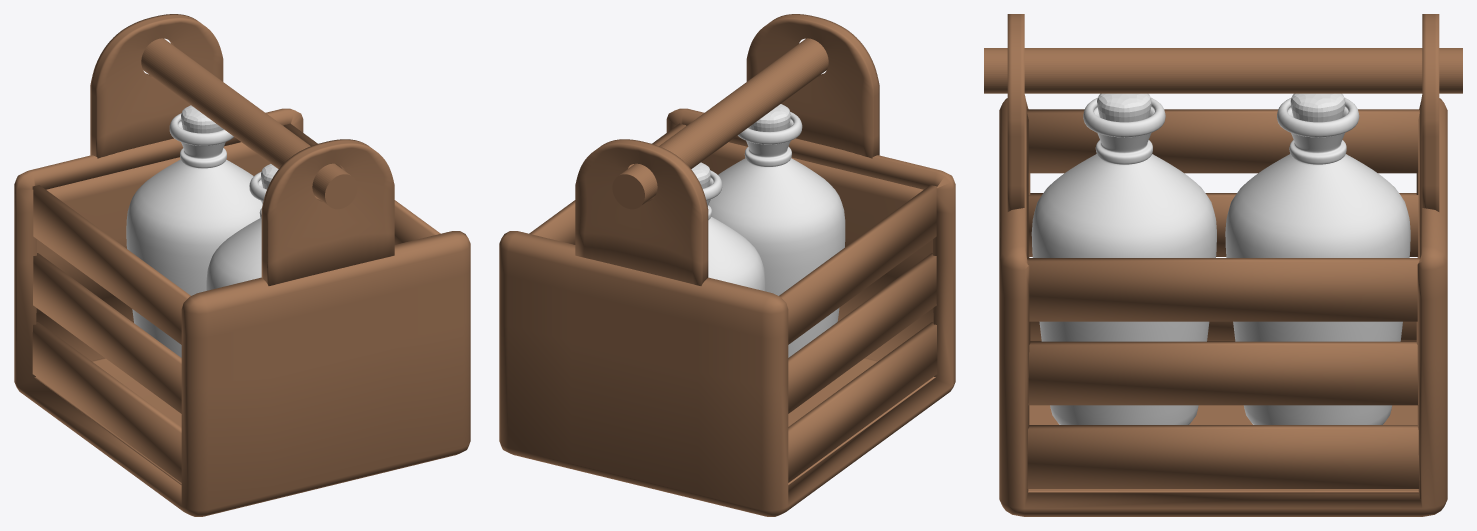
Rendered from CajaBotellas.fbx.
The picture shows the model from 3 angles, left to right: view 1: azimuth 30°, elevation 25°; view 2: azimuth 150°, elevation 25°; view 3: azimuth 270°, elevation 25°; orthographic projection. The views are drawn at different scales.
Visible parts, largest first — view 1: Cube.001, Cube.002, Cube.003, GLASS.001, Cylinder, GLASS, CORK.001; view 2: Cube.001, Cube.002, Cube.003, GLASS, Cylinder, GLASS.001, CORK; view 3: Cube.002, Cube.001, GLASS.001, GLASS, Cylinder, Cube.003, CORK.001, CORK.
Boxes of the visible parts, <box> form: Cube.001: <box>14,108,470,516</box>; Cube.002: <box>32,123,440,482</box>; Cube.003: <box>90,14,394,285</box>; GLASS.001: <box>126,113,262,357</box>; Cylinder: <box>141,38,357,209</box>; GLASS: <box>206,171,266,290</box>; CORK.001: <box>181,105,223,133</box>; Cube.001: <box>499,108,955,516</box>; Cube.002: <box>529,123,937,482</box>; Cube.003: <box>575,14,879,285</box>; GLASS: <box>708,112,845,357</box>; Cylinder: <box>612,38,828,209</box>; GLASS.001: <box>703,170,765,291</box>; CORK: <box>748,104,790,131</box>; Cube.002: <box>1027,109,1419,488</box>; Cube.001: <box>999,95,1447,516</box>; GLASS.001: <box>1225,97,1410,424</box>; GLASS: <box>1031,97,1216,424</box>; Cylinder: <box>984,48,1462,93</box>; Cube.003: <box>1007,14,1439,211</box>; CORK.001: <box>1290,93,1345,122</box>; CORK: <box>1097,93,1151,122</box>.
Bounding box in the file's own units: 161 × 183 × 192.
